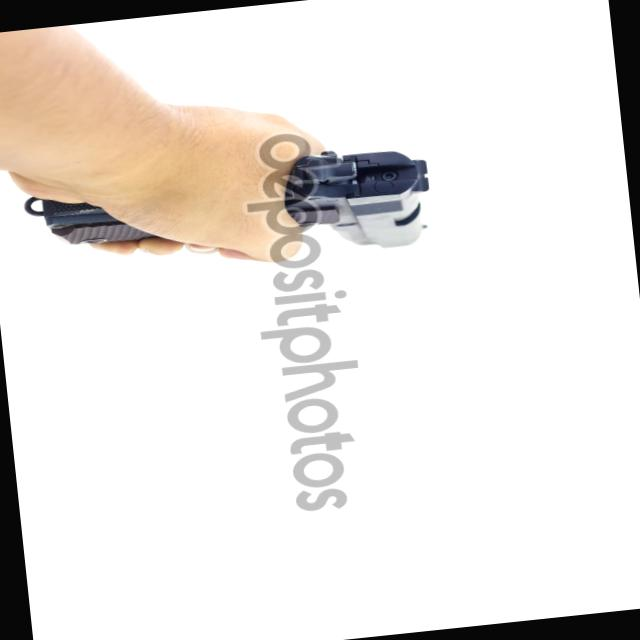handgun: (21, 125, 436, 298)
